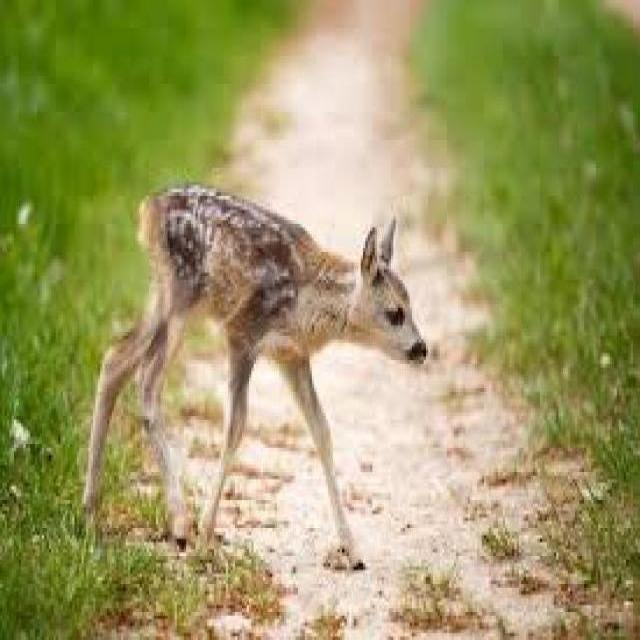deer: (74, 172, 434, 580)
